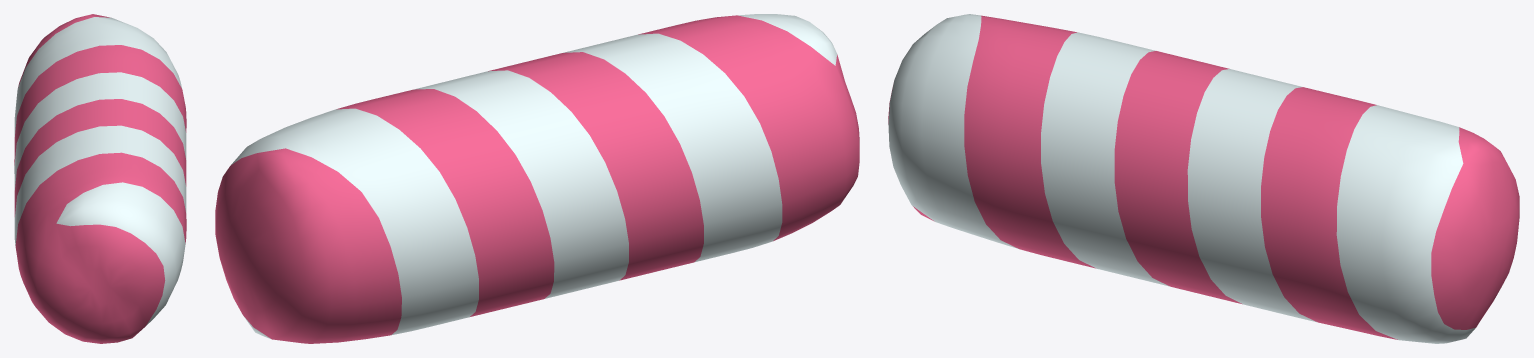
The model's file is Candybar_A_03.fbx.
3 renders of one model, left to right at view 1: azimuth 30°, elevation 25°; view 2: azimuth 150°, elevation 25°; view 3: azimuth 270°, elevation 25°, orthographic. The views are drawn at different scales.
Visible parts, largest first — view 1: Candybar_A_03_LOD0; view 2: Candybar_A_03_LOD0; view 3: Candybar_A_03_LOD0.
Part boxes in pixels (x1=…): Candybar_A_03_LOD0: x1=14, y1=14, x2=186, y2=343; Candybar_A_03_LOD0: x1=215, y1=14, x2=859, y2=343; Candybar_A_03_LOD0: x1=888, y1=14, x2=1519, y2=343.
Size of what is drawn, in the model's own units: 549 by 266 by 742.
